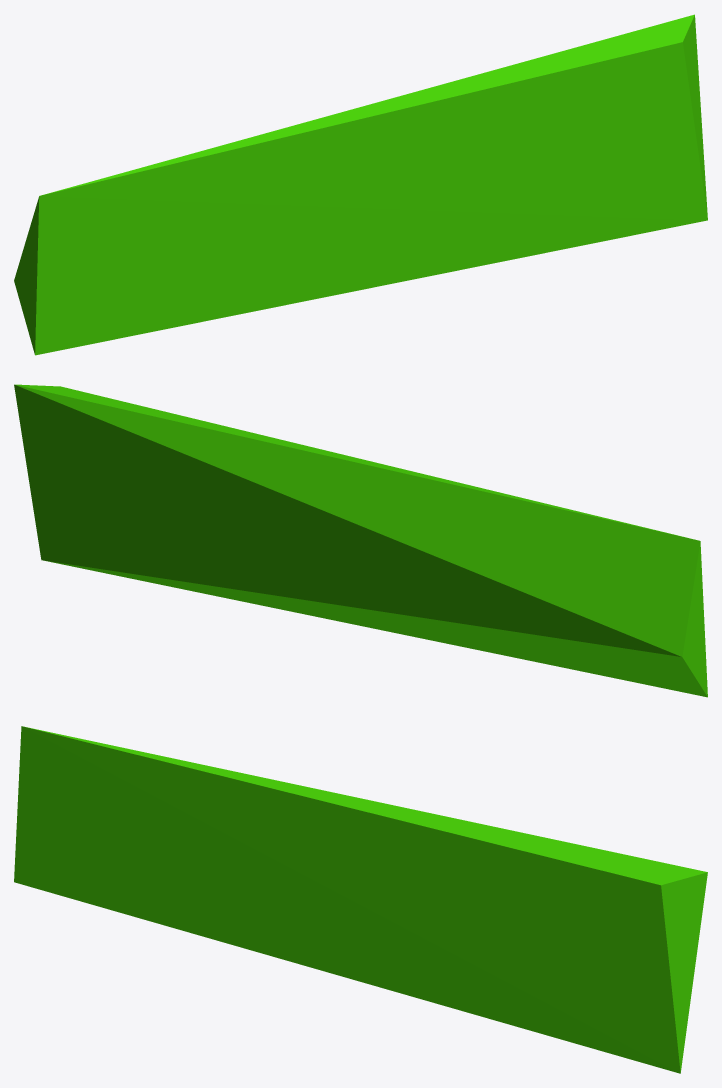
File: waste_bin_convex_piece_030.obj
3 renders of one model, top to bottom at view 1: azimuth 30°, elevation 25°; view 2: azimuth 150°, elevation 25°; view 3: azimuth 330°, elevation 25°, orthographic.
Size of the model in its own units: 0.1044 by 0.0279 by 0.00674.
